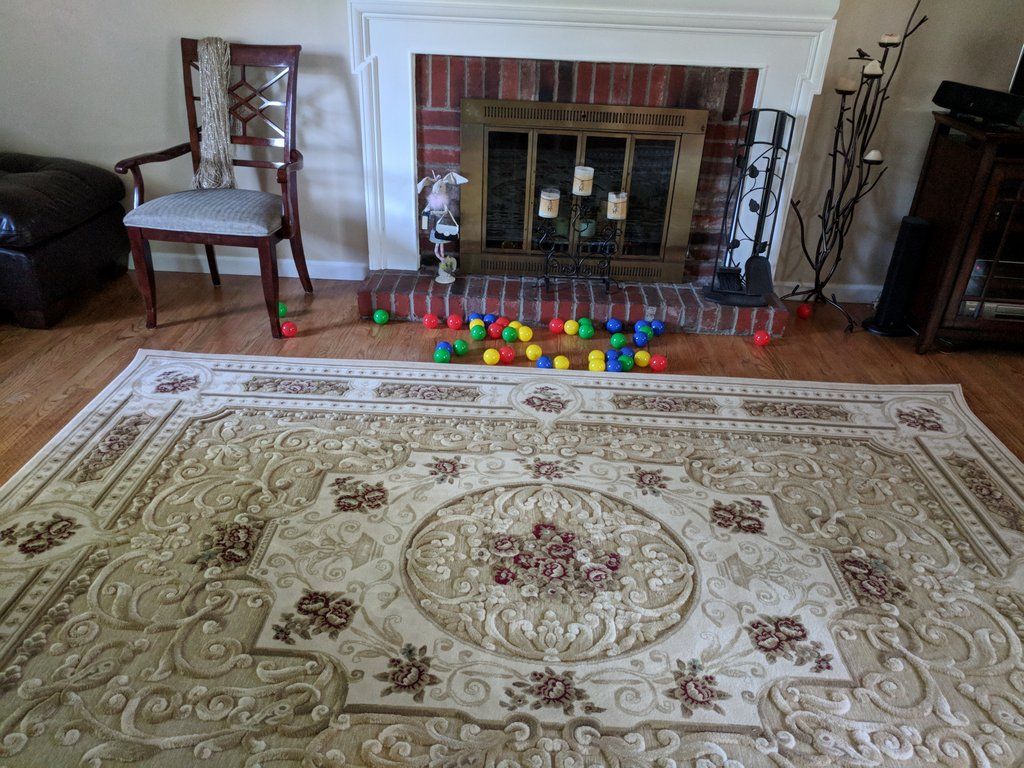ball: (618, 354, 634, 371)
